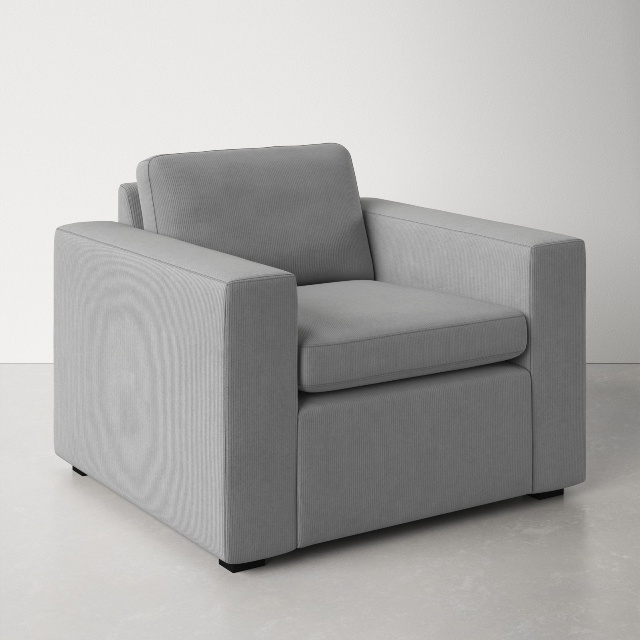obstacle: (55, 144, 585, 569)
